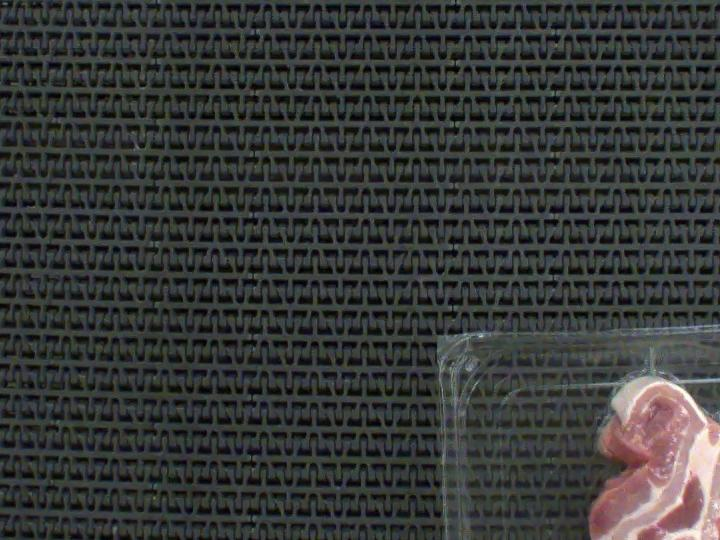unsealed: (588, 360, 720, 444)
